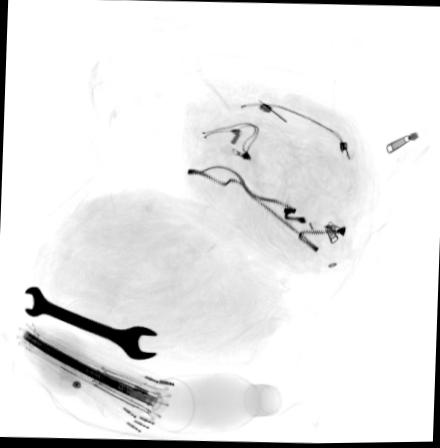Wrench: (21, 284, 158, 360)
